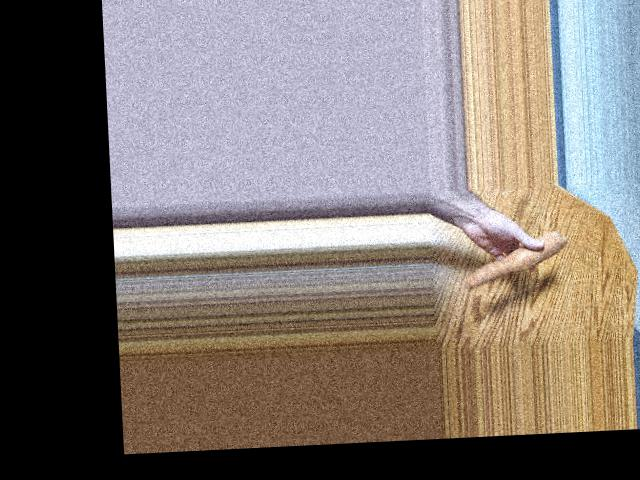sweet_potato: (461, 242, 572, 282)
